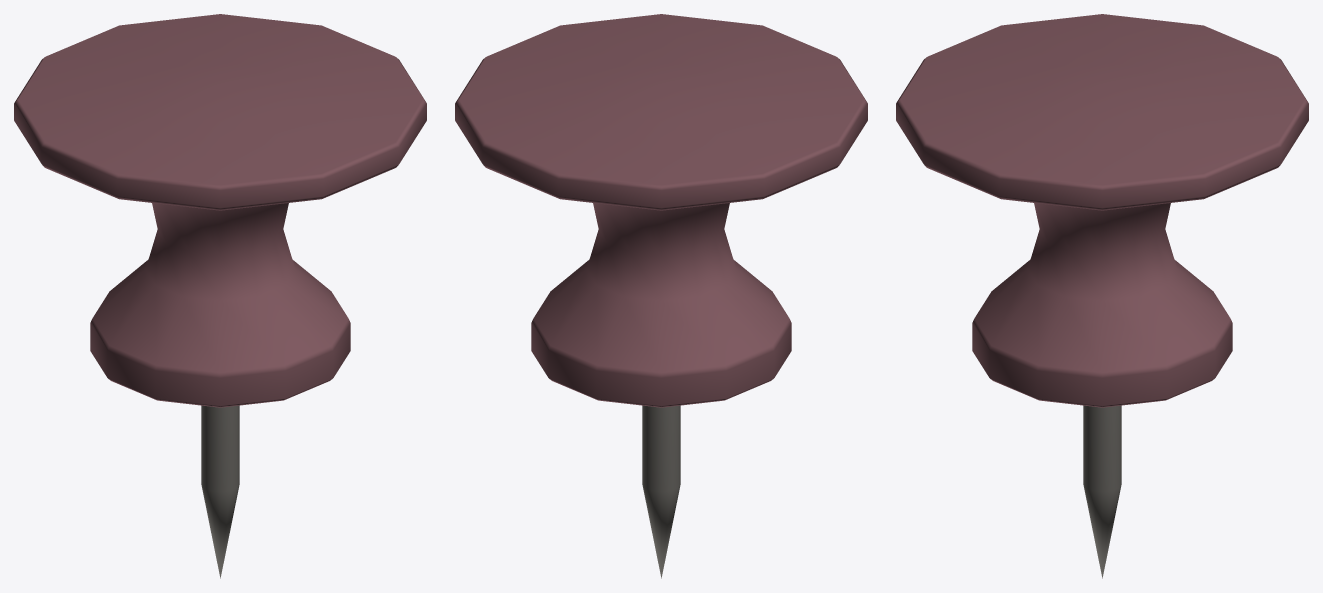
The model's file is Thumbtack_Purple.fbx.
3 renders of one model, left to right at view 1: azimuth 30°, elevation 25°; view 2: azimuth 150°, elevation 25°; view 3: azimuth 270°, elevation 25°, orthographic.
Parts seen in each view (by area): view 1: Thumbtack_Purple; view 2: Thumbtack_Purple; view 3: Thumbtack_Purple.
Boxes of the visible parts, box(x1,y1,x2,y2) form: Thumbtack_Purple: box(14, 14, 426, 578); Thumbtack_Purple: box(455, 14, 867, 578); Thumbtack_Purple: box(896, 14, 1308, 578).
Size of the model in its own units: 9.2 by 12.13 by 9.2.
